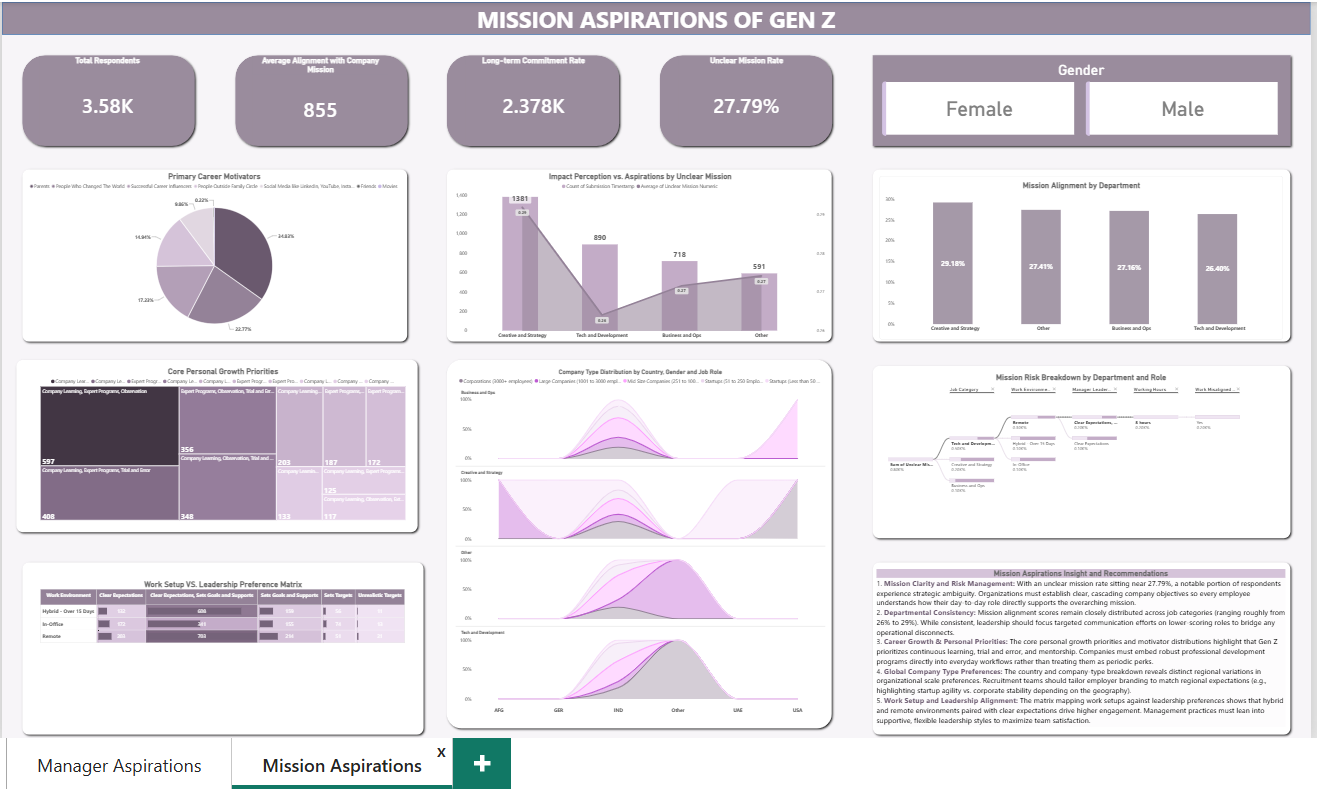

The dashboard page shown, as its layout file describes it:
{"tool":"powerbi","page":{"name":"Mission Aspirations","canvas":[3840,2160],"ordinal":1},"visuals":[{"type":"shape","title":"3","box":[2544,480,1248,528],"z":0,"group":"g3"},{"type":"shape","title":"6","box":[2544,1056,1248,528],"z":0,"group":"g2"},{"type":"group","id":"g1","title":"Section 3","box":[48,1632,3744,528],"z":0},{"type":"shape","title":"9","box":[2544,1632,1248,528],"z":0,"group":"g1"},{"type":"shape","title":"2","box":[1296,480,1152,528],"z":1000,"group":"g3"},{"type":"group","id":"g2","title":"Section 2","box":[32,1040,3760,1104],"z":1000},{"type":"shape","title":"5","box":[1296,1040,1152,1104],"z":1000,"group":"g2"},{"type":"shape","title":"1","box":[48,480,1152,528],"z":2000,"group":"g3"},{"type":"group","id":"g3","title":"Section 1","box":[48,480,3744,528],"z":2000},{"type":"shape","title":"4","box":[32,1040,1200,528],"z":2000,"group":"g2"},{"type":"shape","title":"7","box":[48,1632,1200,528],"z":2000,"group":"g1"},{"type":"shape","title":"KPI4","box":[1920,144,528,288],"z":3000,"group":"g4"},{"type":"shape","title":"Filter","box":[2544,144,1248,288],"z":3000},{"type":"shape","title":"KPI3","box":[1296,144,528,288],"z":3125,"group":"g4"},{"type":"shape","title":"KPI2","box":[672,144,528,288],"z":3250,"group":"g4"},{"type":"shape","title":"KPI1","box":[48,144,528,288],"z":3500,"group":"g4"},{"type":"group","id":"g4","title":"KPIs","box":[48,144,2400,288],"z":4000},{"type":"shape","title":"Header","box":[0,0,3840,96],"z":5000},{"type":"advancedSlicerVisual","fields":{"Values":["Clean Data Sheet Final.Gender"]},"box":[2576,176,1184,224],"z":6000},{"type":"cardVisual","title":"Total Respondents","fields":{"Data":["CountNonNull(Clean Data Sheet Final.Submission Timestamp)"]},"box":[112,160,400,256],"z":7000},{"type":"cardVisual","title":"Average Alignment with Company Mission","fields":{"Data":["CountNonNull(Clean Data Sheet Final.Work Misaligned Mission)"]},"box":[736,160,400,256],"z":8000},{"type":"cardVisual","title":"Long-term Commitment Rate","fields":{"Data":["CountNonNull(Clean Data Sheet Final.7-Year Tenure Intent)"]},"box":[1360,160,400,256],"z":9000},{"type":"cardVisual","title":"Unclear Mission Rate","fields":{"Data":["Avg(Clean Data Sheet Final.Unclear Mission Numeric)"]},"box":[1984,160,400,256],"z":10000},{"type":"pieChart","title":"Primary Career Motivators","fields":{"Category":["Clean Data Sheet Final.Career Influence Factor"],"Y":["Count(Clean Data Sheet Final.Submission Timestamp)"]},"box":[80,496,1088,496],"z":11000},{"type":"lineStackedColumnComboChart","title":"Impact Perception vs. Aspirations by Unclear Mission","fields":{"Category":["Clean Data Sheet Final.Job Category"],"Y":["CountNonNull(Clean Data Sheet Final.Submission Timestamp)"],"Y2":["Avg(Clean Data Sheet Final.Unclear Mission Numeric)"]},"box":[1328,496,1088,496],"z":12000},{"type":"clusteredColumnChart","title":"Mission Alignment by Department","fields":{"Category":["Clean Data Sheet Final.Job Category"],"Y":["Avg(Clean Data Sheet Final.Unclear Mission Numeric)"]},"box":[2576,512,1184,480],"z":13000},{"type":"treemap","title":"Core Personal Growth Priorities","fields":{"Group":["Clean Data Sheet Final.Learning Environment"],"Values":["CountNonNull(Clean Data Sheet Final.Submission Timestamp)"]},"box":[96,1056,1104,480],"z":14000},{"type":"pivotTable","title":"Work Setup VS. Leadership Preference Matrix","fields":{"Columns":["Clean Data Sheet Final.Manager Leadership Style"],"Rows":["Clean Data Sheet Final.Work Environment"],"Values":["CountNonNull(Clean Data Sheet Final.Submission Timestamp)"]},"box":[96,1680,1104,432],"z":15000},{"type":"decompositionTreeVisual","title":"Mission Risk Breakdown by Department and Role","fields":{"Analyze":["Sum(Clean Data Sheet Final.Unclear Mission Numeric)"],"ExplainBy":["Clean Data Sheet Final.Job Category","Clean Data Sheet Final.Work Environment","Clean Data Sheet Final.Manager Leadership Style","Clean Data Sheet Final.Working Hours","Clean Data Sheet Final.Work Misaligned Mission"]},"box":[2576,1088,1184,480],"z":16000},{"type":"hundredPercentStackedAreaChart","title":"Company Type Distribution by Country, Gender and Job Role","fields":{"Category":["Clean Data Sheet Final.Country"],"Rows":["Clean Data Sheet Final.Job Category"],"Series":["Clean Data Sheet Final.Company Type"],"Y":["CountNonNull(Clean Data Sheet Final.Gender)"]},"box":[1328,1072,1088,1024],"z":17000},{"type":"textbox","title":"Mission Aspirations Insight and Recommendations","box":[2568,1664,1200,464],"z":19000}]}

Visuals, with their boxes on the page's 3840x2160 design canvas (x1, y1, x2, y2). These are canvas units, not pixel positions in the 1317x789 screenshot, which may show the page scaled, cropped or inside an application window:
"3" shape: {"x1": 2544, "y1": 480, "x2": 3792, "y2": 1008}
"6" shape: {"x1": 2544, "y1": 1056, "x2": 3792, "y2": 1584}
"Section 3" group: {"x1": 48, "y1": 1632, "x2": 3792, "y2": 2160}
"9" shape: {"x1": 2544, "y1": 1632, "x2": 3792, "y2": 2160}
"2" shape: {"x1": 1296, "y1": 480, "x2": 2448, "y2": 1008}
"Section 2" group: {"x1": 32, "y1": 1040, "x2": 3792, "y2": 2144}
"5" shape: {"x1": 1296, "y1": 1040, "x2": 2448, "y2": 2144}
"1" shape: {"x1": 48, "y1": 480, "x2": 1200, "y2": 1008}
"Section 1" group: {"x1": 48, "y1": 480, "x2": 3792, "y2": 1008}
"4" shape: {"x1": 32, "y1": 1040, "x2": 1232, "y2": 1568}
"7" shape: {"x1": 48, "y1": 1632, "x2": 1248, "y2": 2160}
"KPI4" shape: {"x1": 1920, "y1": 144, "x2": 2448, "y2": 432}
"Filter" shape: {"x1": 2544, "y1": 144, "x2": 3792, "y2": 432}
"KPI3" shape: {"x1": 1296, "y1": 144, "x2": 1824, "y2": 432}
"KPI2" shape: {"x1": 672, "y1": 144, "x2": 1200, "y2": 432}
"KPI1" shape: {"x1": 48, "y1": 144, "x2": 576, "y2": 432}
"KPIs" group: {"x1": 48, "y1": 144, "x2": 2448, "y2": 432}
"Header" shape: {"x1": 0, "y1": 0, "x2": 3840, "y2": 96}
advancedSlicerVisual - Clean Data Sheet Final.Gender: {"x1": 2576, "y1": 176, "x2": 3760, "y2": 400}
"Total Respondents" cardVisual: {"x1": 112, "y1": 160, "x2": 512, "y2": 416}
"Average Alignment with Company Mission" cardVisual: {"x1": 736, "y1": 160, "x2": 1136, "y2": 416}
"Long-term Commitment Rate" cardVisual: {"x1": 1360, "y1": 160, "x2": 1760, "y2": 416}
"Unclear Mission Rate" cardVisual: {"x1": 1984, "y1": 160, "x2": 2384, "y2": 416}
"Primary Career Motivators" pieChart: {"x1": 80, "y1": 496, "x2": 1168, "y2": 992}
"Impact Perception vs. Aspirations by Unclear Mission" lineStackedColumnComboChart: {"x1": 1328, "y1": 496, "x2": 2416, "y2": 992}
"Mission Alignment by Department" clusteredColumnChart: {"x1": 2576, "y1": 512, "x2": 3760, "y2": 992}
"Core Personal Growth Priorities" treemap: {"x1": 96, "y1": 1056, "x2": 1200, "y2": 1536}
"Work Setup VS. Leadership Preference Matrix" pivotTable: {"x1": 96, "y1": 1680, "x2": 1200, "y2": 2112}
"Mission Risk Breakdown by Department and Role" decompositionTreeVisual: {"x1": 2576, "y1": 1088, "x2": 3760, "y2": 1568}
"Company Type Distribution by Country, Gender and Job Role" hundredPercentStackedAreaChart: {"x1": 1328, "y1": 1072, "x2": 2416, "y2": 2096}
"Mission Aspirations Insight and Recommendations" textbox: {"x1": 2568, "y1": 1664, "x2": 3768, "y2": 2128}
